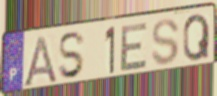1: (104, 25, 116, 76)
A: (21, 33, 59, 89)
E: (119, 20, 149, 74)
Q: (182, 12, 211, 63)
S: (57, 30, 87, 81), (150, 18, 181, 67)
